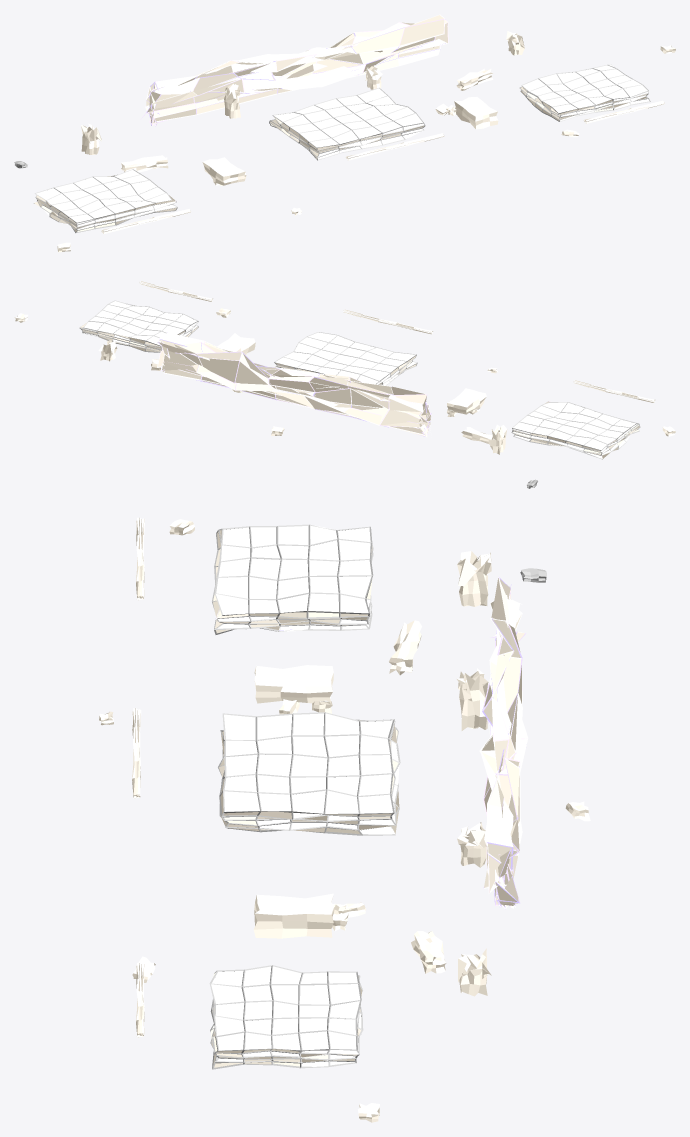
File: The_Gallery_Ruins.glb
3 renders of one model, top to bottom at view 1: azimuth 30°, elevation 25°; view 2: azimuth 150°, elevation 25°; view 3: azimuth 270°, elevation 25°, orthographic. The views are drawn at different scales.
Visible parts, largest first — view 1: BackWall, SlabCenter, SlabLeft, SlabRight, AccentWall, AccentSlab_1.001, AccentSlab_0.001, AccentSlab_2.001, StepConn2, StepConn1, Lintel1, Buttress_0 (+5 smaller); view 2: BackWall, SlabLeft, SlabCenter, SlabRight, AccentWall, AccentSlab_0.001, AccentSlab_2.001, AccentSlab_1.001, StepConn1, StepConn2, Buttress_0, Trim_1 (+1 smaller); view 3: SlabCenter, SlabLeft, SlabRight, BackWall, AccentSlab_1.001, AccentSlab_0.001, AccentSlab_2.001, StepConn2, AccentWall, StepConn1, Buttress_0, Buttress_1 (+4 smaller).
Boxes of the visible parts, x1,y1,x2,y2 form: BackWall: (146, 15, 447, 125); SlabCenter: (270, 88, 423, 159); SlabLeft: (34, 170, 176, 231); SlabRight: (520, 64, 649, 120); AccentWall: (140, 14, 448, 126); AccentSlab_1.001: (269, 87, 425, 160); AccentSlab_0.001: (34, 169, 177, 233); AccentSlab_2.001: (519, 64, 650, 121); StepConn2: (454, 97, 498, 129); StepConn1: (202, 157, 245, 185); Lintel1: (121, 155, 168, 172); Buttress_0: (81, 123, 101, 154); BackWall: (157, 333, 430, 437); SlabLeft: (512, 401, 639, 458); SlabCenter: (275, 332, 416, 385); SlabRight: (80, 301, 197, 351); AccentWall: (157, 332, 431, 436); AccentSlab_0.001: (511, 401, 640, 459); AccentSlab_2.001: (79, 300, 198, 352); AccentSlab_1.001: (274, 332, 417, 385); StepConn1: (447, 388, 486, 414); StepConn2: (217, 333, 255, 354); Buttress_0: (490, 424, 507, 454); Trim_1: (343, 309, 432, 334); SlabCenter: (219, 713, 399, 834); SlabLeft: (213, 525, 372, 633); SlabRight: (211, 966, 362, 1067); BackWall: (481, 578, 527, 906); AccentSlab_1.001: (218, 712, 400, 835); AccentSlab_0.001: (212, 524, 373, 634); AccentSlab_2.001: (209, 965, 363, 1069); StepConn2: (253, 893, 334, 938); AccentWall: (479, 577, 528, 909); StepConn1: (254, 665, 333, 704); Buttress_0: (457, 551, 491, 606); Buttress_1: (456, 668, 488, 730).
Size of the model in its own units: 18.86 by 1.78 by 6.56.
